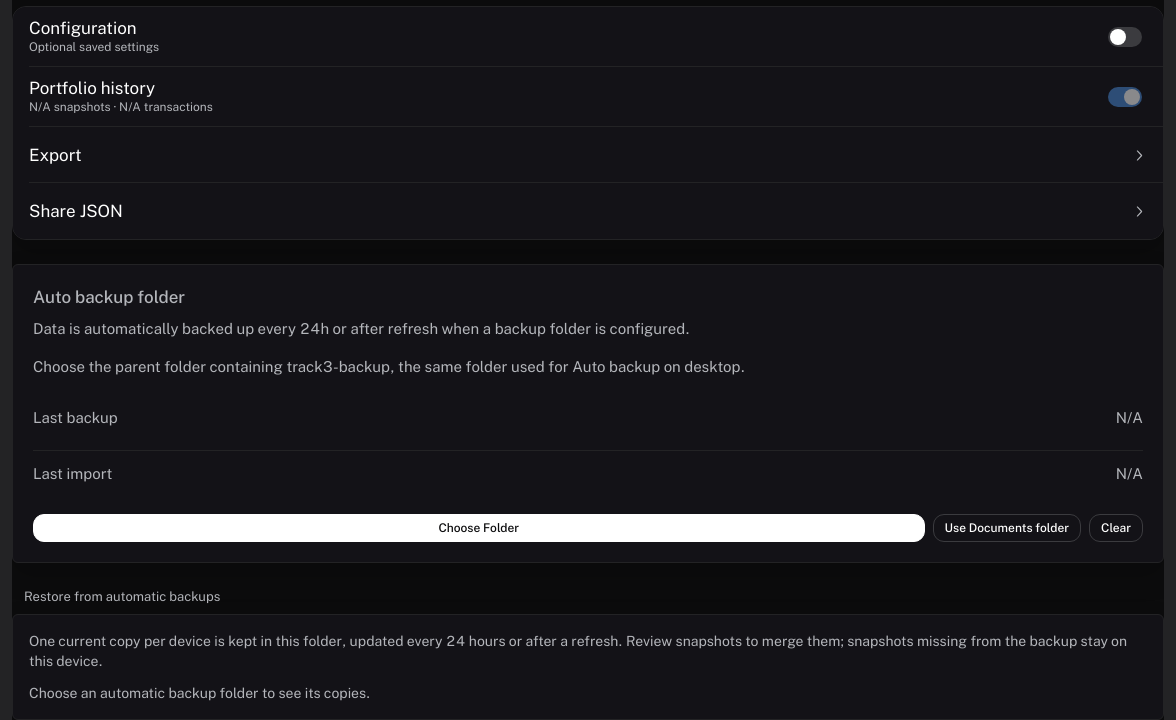
Test: keeps a newly picked bookmark while its configuration write is pending
This screenshot has width=1176, height=720.
(page scrolled)
Click the button "Choose Folder" at x=479, y=528, box [33,514,925,542]
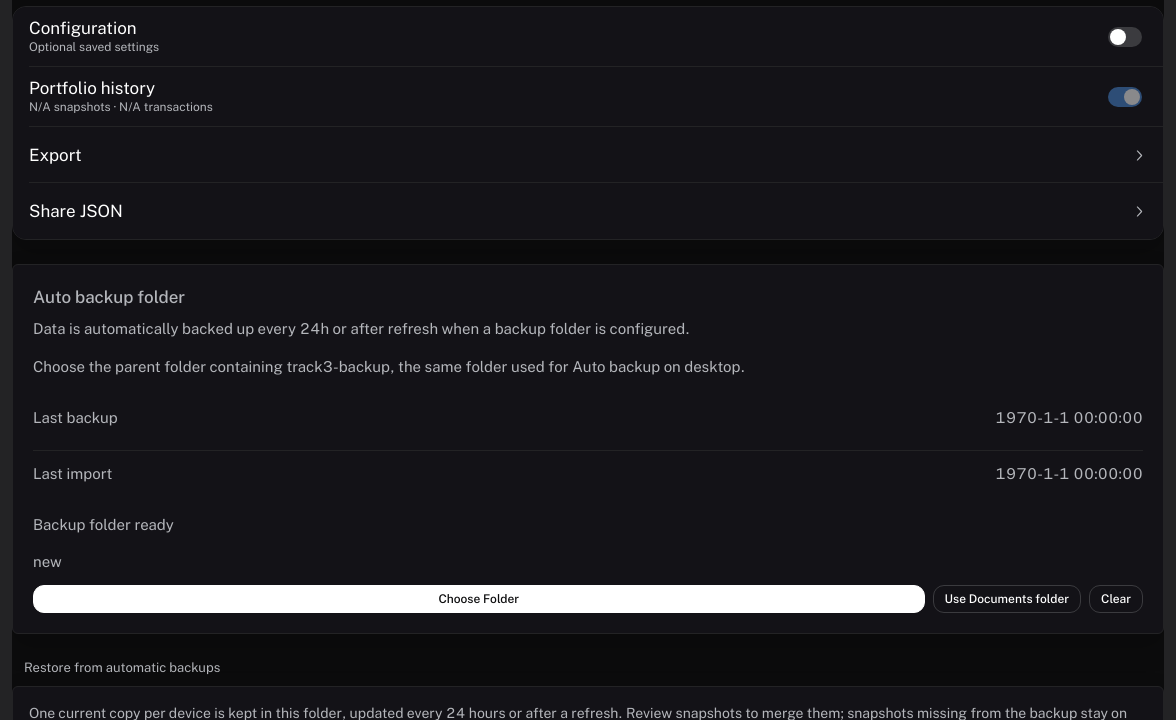
expect the text "new" is shown: met, box [33,553,62,570]
